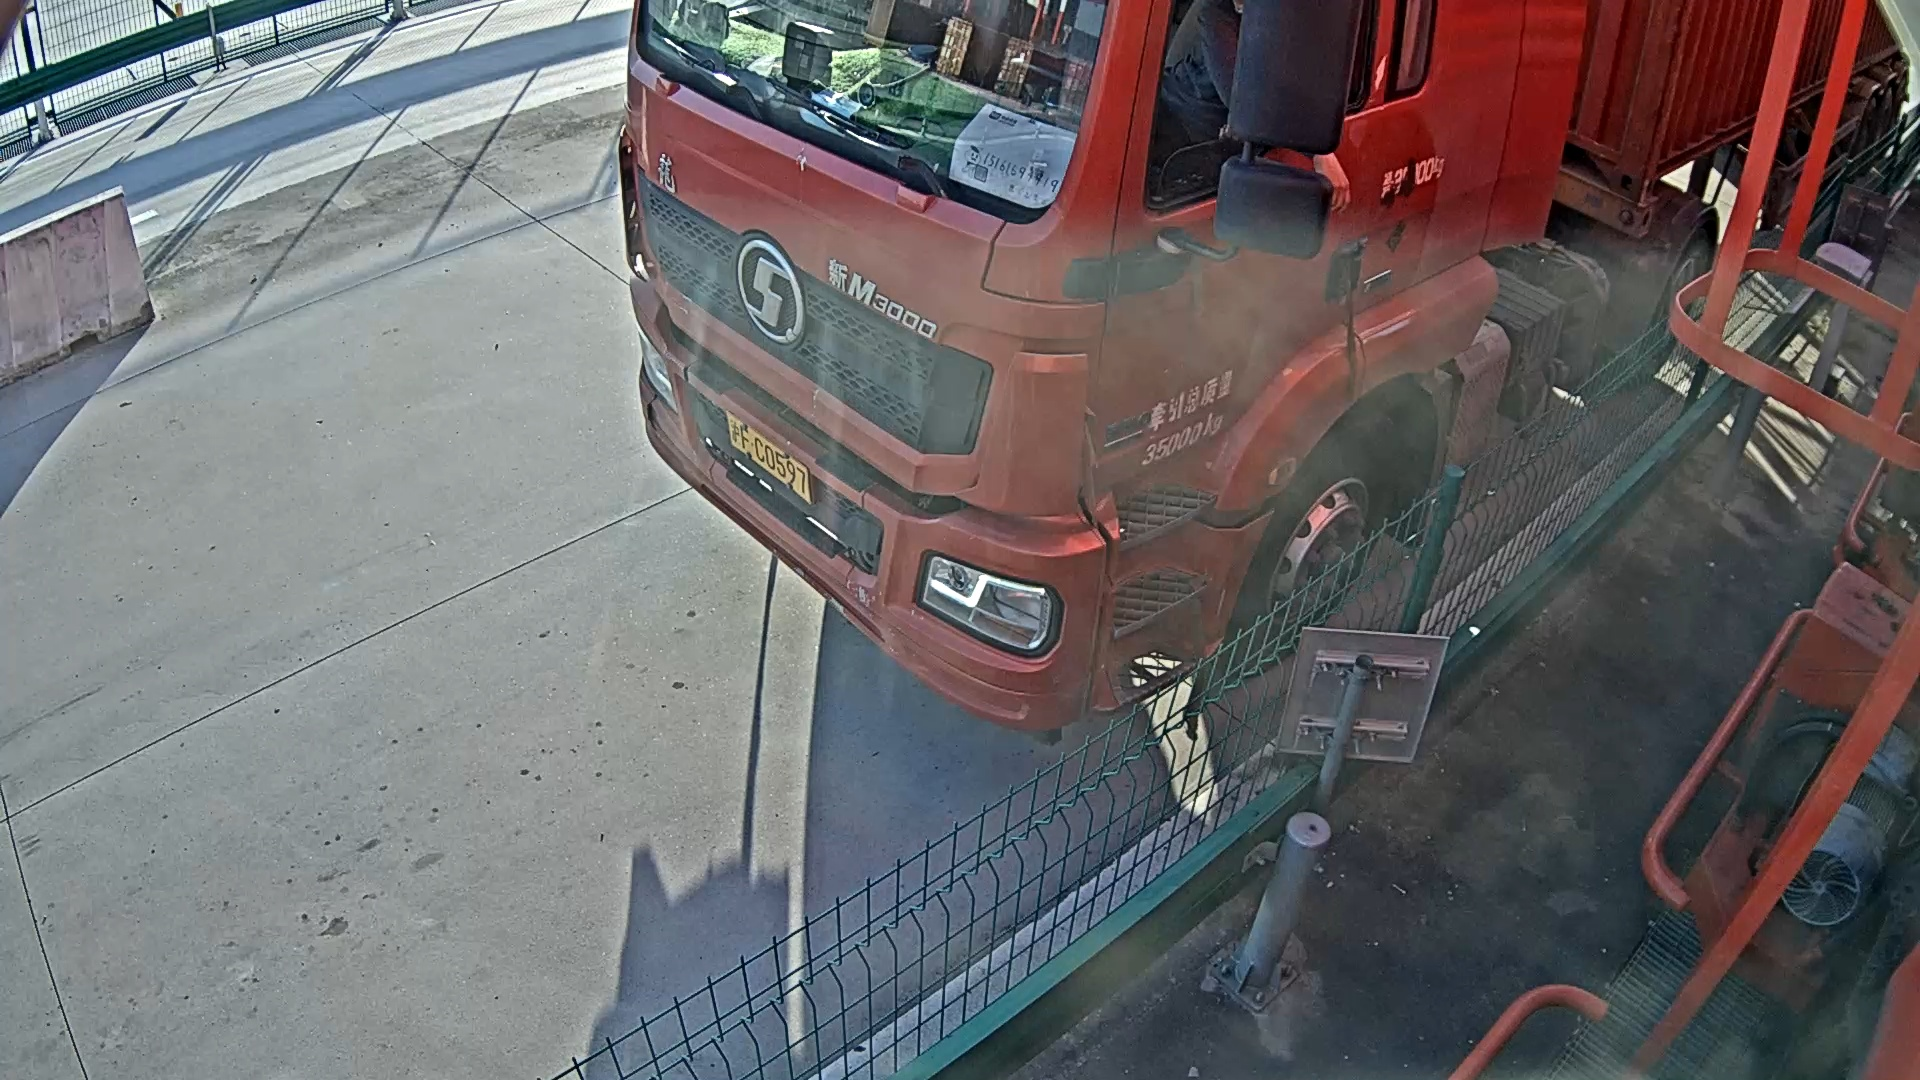head: (613, 9, 1574, 823)
plate: (712, 417, 821, 510)
